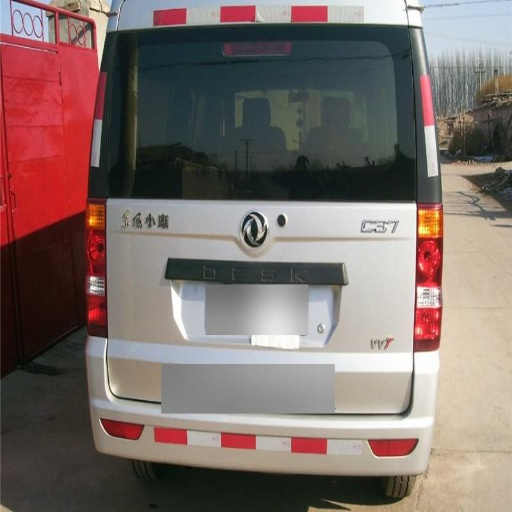back_bumper: (89, 339, 437, 472)
tailgate: (155, 199, 364, 351)
